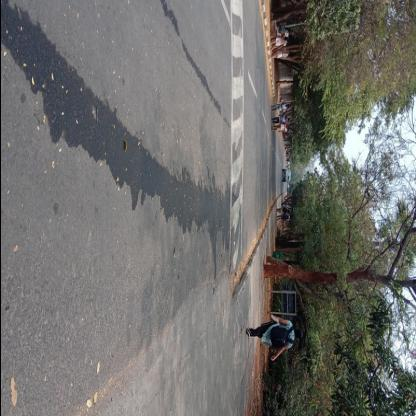speed-bumps: (217, 0, 249, 277)
